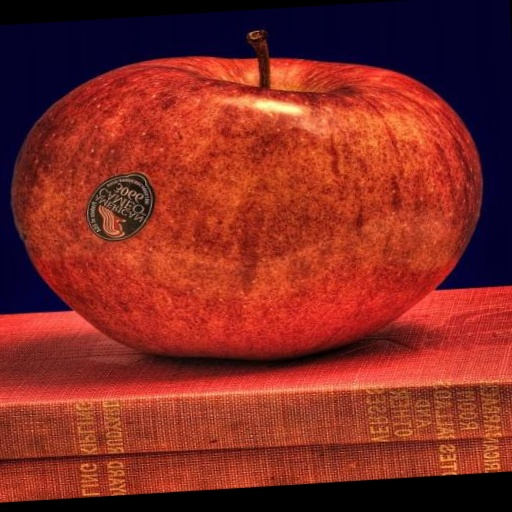fruit: (11, 57, 481, 359)
